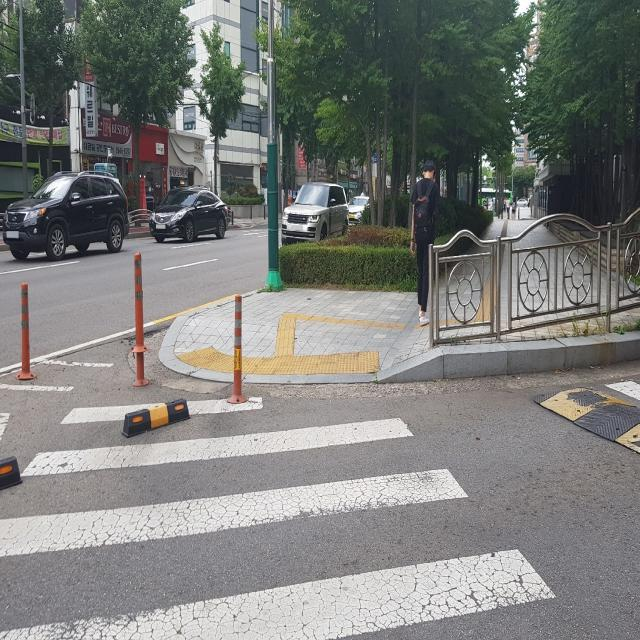횡단보도: (1, 392, 560, 640)
